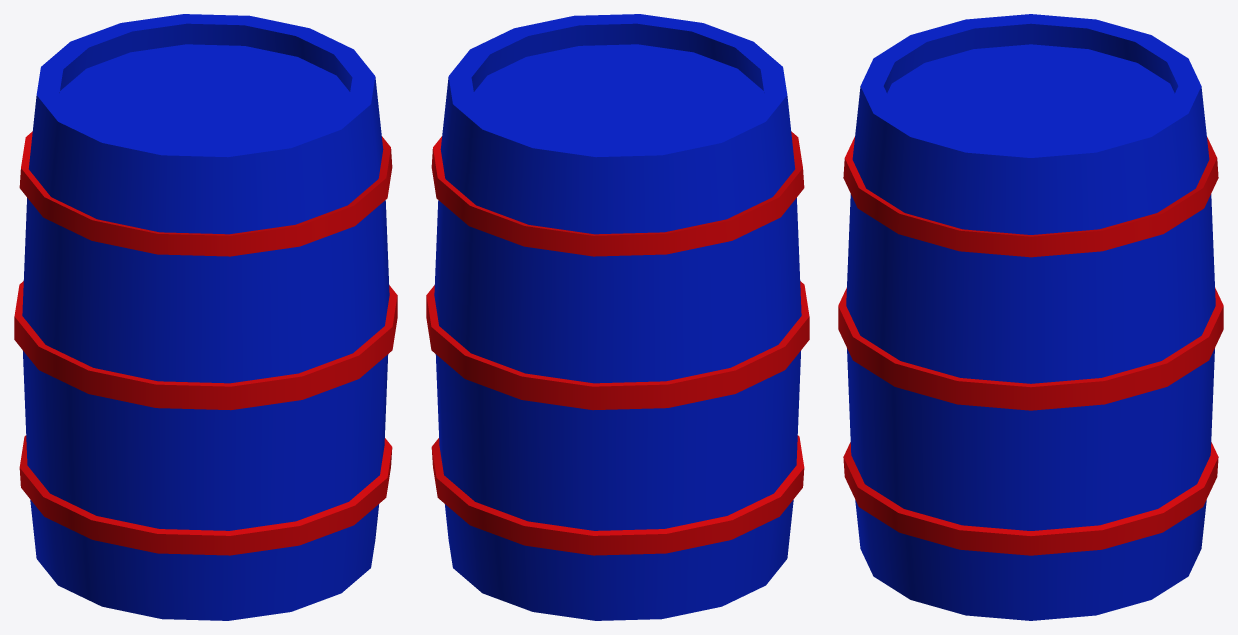
The model's file is Barrel unity.fbx.
The picture shows the model from 3 angles, left to right: view 1: azimuth 30°, elevation 25°; view 2: azimuth 150°, elevation 25°; view 3: azimuth 270°, elevation 25°; orthographic projection.
Visible parts, largest first — view 1: Cylinder; view 2: Cylinder; view 3: Cylinder.
Part boxes in pixels (left/top/right/bottom): Cylinder: left=14, top=14, right=397, bottom=620; Cylinder: left=426, top=14, right=809, bottom=620; Cylinder: left=838, top=14, right=1223, bottom=620.
Bounding box in the file's own units: 94.17 × 125 × 94.17.
